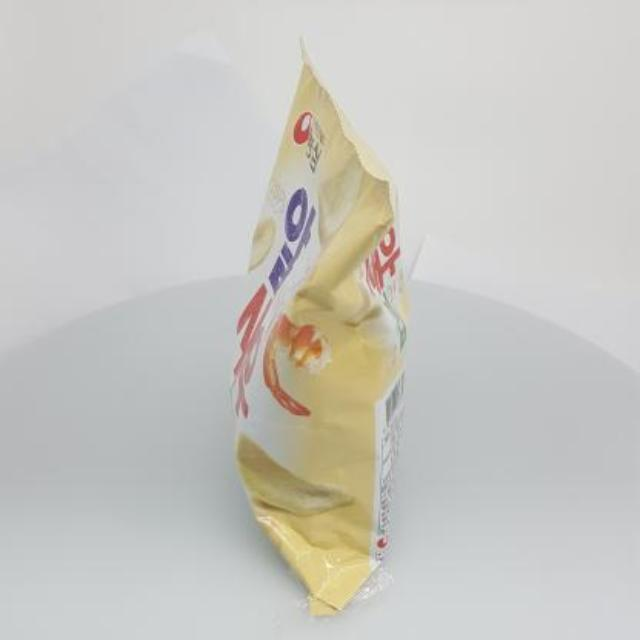snack_bag: (218, 22, 442, 622)
